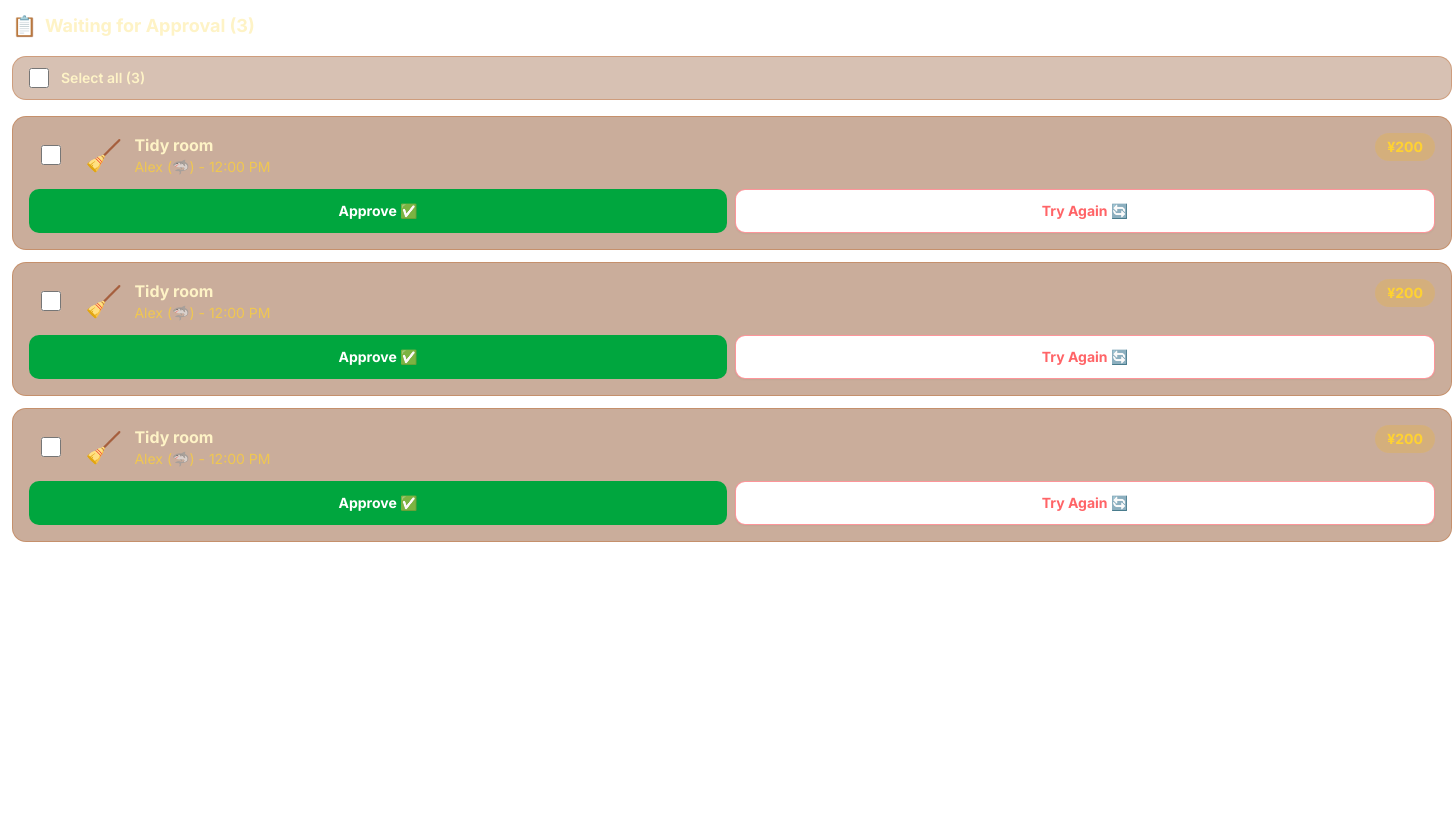
Test: ApprovalQueue › Wave 8b — bulk-approve › select-all checkbox flips every card's checkbox
The image size is (1452, 822).
Step 1. Click the checkbox with test id "approval-queue-select-all-checkbox" → point(39, 78), box [29,68,49,88]
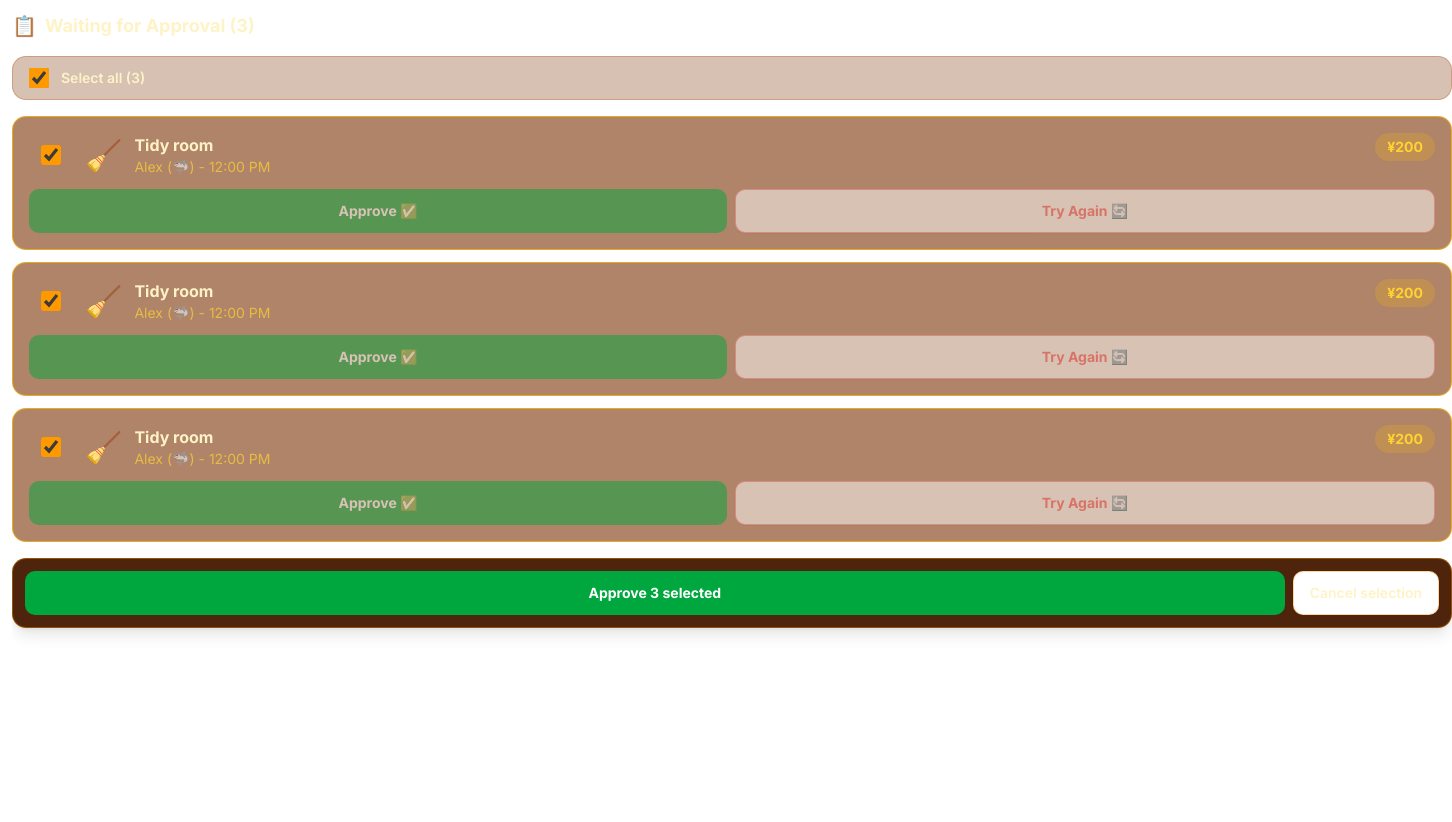
Expected: the button with test id "approval-queue-bulk-approve" shows "3 selected", [25,571,1285,615]
